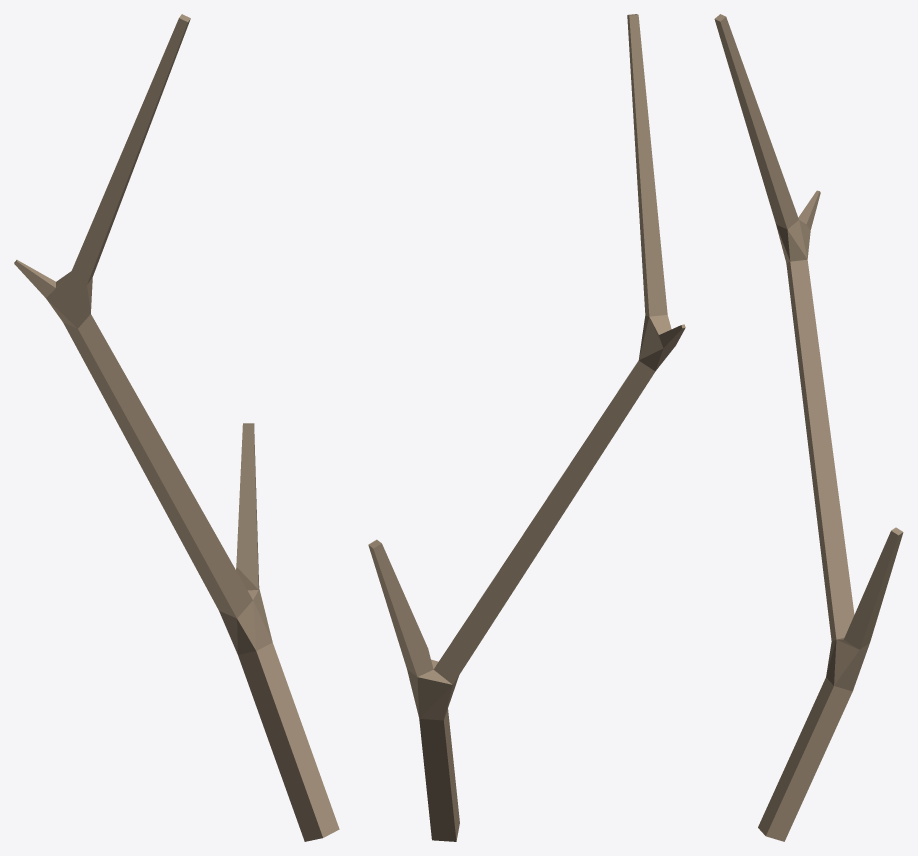
File: stick_01_break_olive.fbx
3 renders of one model, left to right at view 1: azimuth 30°, elevation 25°; view 2: azimuth 150°, elevation 25°; view 3: azimuth 270°, elevation 25°, orthographic. The views are drawn at different scales.
Parts seen in each view (by area): view 1: stick_01; view 2: stick_01; view 3: stick_01.
Boxes of the visible parts, bbox=[...] form: stick_01: bbox=[14, 14, 339, 841]; stick_01: bbox=[368, 14, 685, 841]; stick_01: bbox=[714, 14, 903, 841].
Size of the model in its own units: 18.43 by 53.01 by 12.06.
